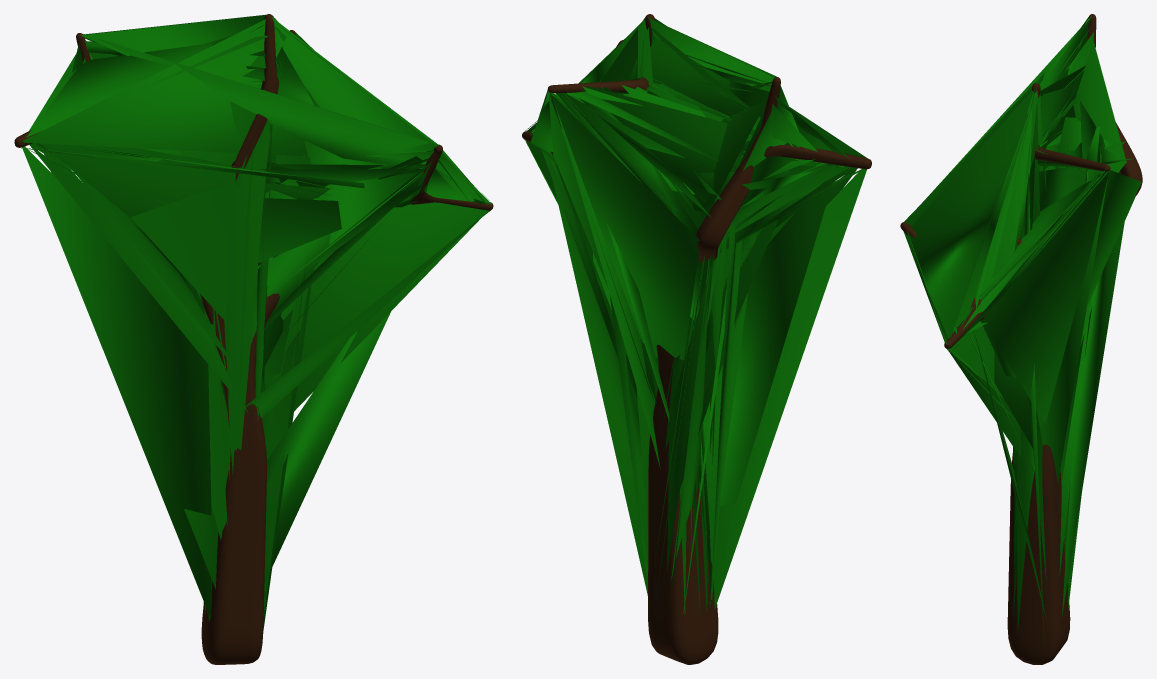
Rendered from connected-trees.gltf.
The picture shows the model from 3 angles, left to right: view 1: azimuth 30°, elevation 25°; view 2: azimuth 150°, elevation 25°; view 3: azimuth 270°, elevation 25°; orthographic projection. The views are drawn at different scales.
Visible parts, largest first — view 1: Sphere.003; view 2: Sphere.003; view 3: Sphere.003.
Part boxes in pixels (bbox=[...]): Sphere.003: bbox=[14, 14, 493, 664]; Sphere.003: bbox=[522, 14, 871, 664]; Sphere.003: bbox=[900, 14, 1142, 664].
Bounding box in the file's own units: 0.3322 × 0.4901 × 0.1821.
2 materials, 2 textured.
